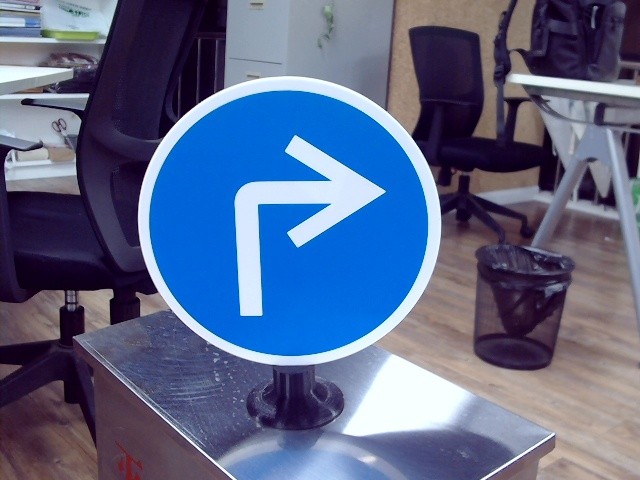turn_right: (211, 133, 377, 319)
